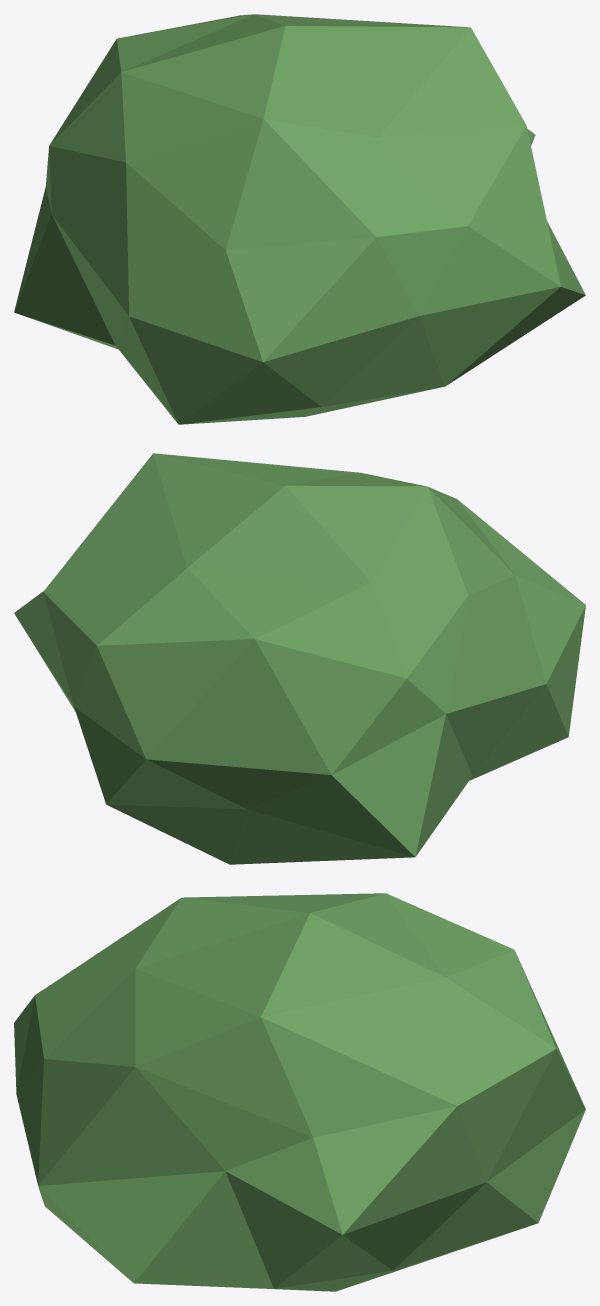
Rendered from bush_green_01.glb.
The picture shows the model from 3 angles, top to bottom: view 1: azimuth 30°, elevation 25°; view 2: azimuth 150°, elevation 25°; view 3: azimuth 270°, elevation 25°; orthographic projection. The views are drawn at different scales.
Parts seen in each view (by area): view 1: bush_green_01; view 2: bush_green_01; view 3: bush_green_01.
Part boxes in pixels (x1,y1,x2,y2): bush_green_01: (14,14,585,424); bush_green_01: (14,453,585,864); bush_green_01: (14,893,585,1291).
Bounding box in the file's own units: 0.9514 × 0.6381 × 0.9622.
